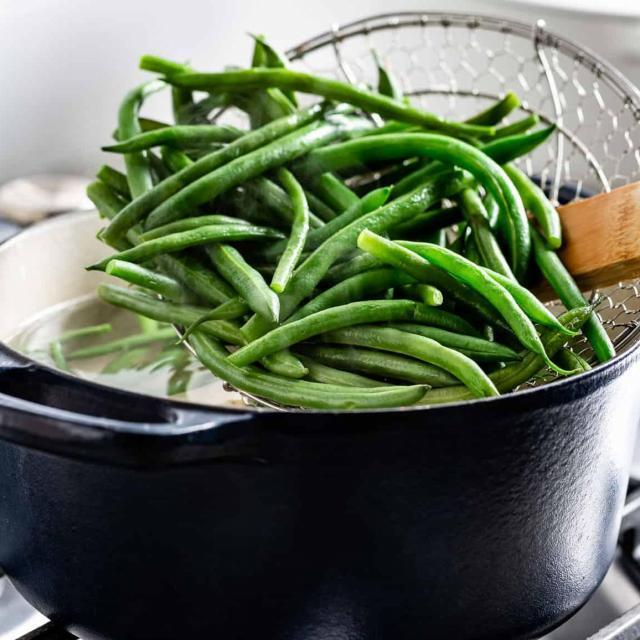Beans: (84, 25, 624, 403)
